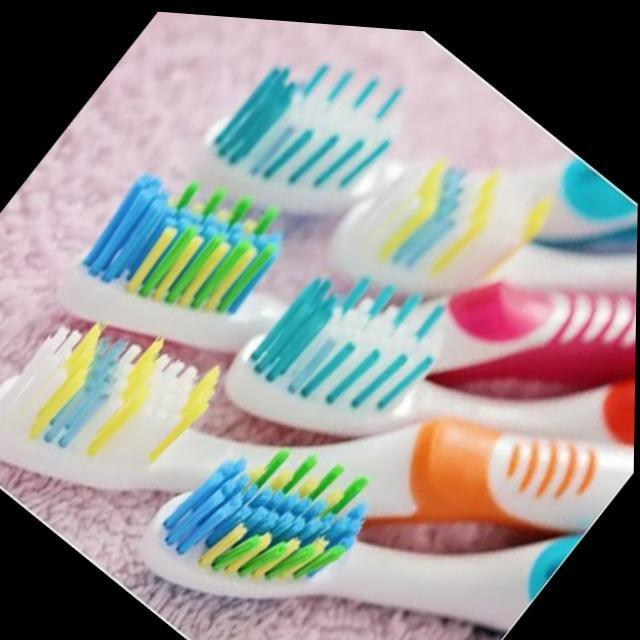toothbrush: (0, 324, 635, 519), (58, 173, 637, 380), (179, 54, 638, 234), (136, 458, 589, 620), (226, 278, 636, 436), (309, 154, 638, 284)
